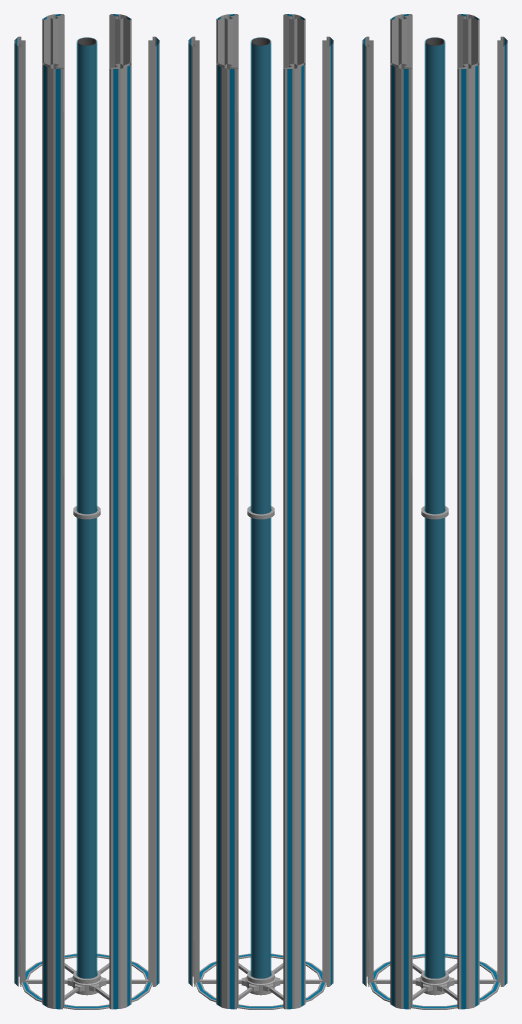
The model's file is SM_SpaceElevatorCableSegment.fbx.
The picture shows the model from 3 angles, left to right: view 1: azimuth 30°, elevation 25°; view 2: azimuth 150°, elevation 25°; view 3: azimuth 270°, elevation 25°; orthographic projection.
Parts seen in each view (by area): view 1: polySurface7; view 2: polySurface7; view 3: polySurface7.
Boxes of the visible parts, left/top/right/bottom form: polySurface7: left=14, top=14, right=159, bottom=1009; polySurface7: left=188, top=14, right=333, bottom=1009; polySurface7: left=362, top=14, right=507, bottom=1009.
Size of the model in its own units: 630 by 5040 by 700.
